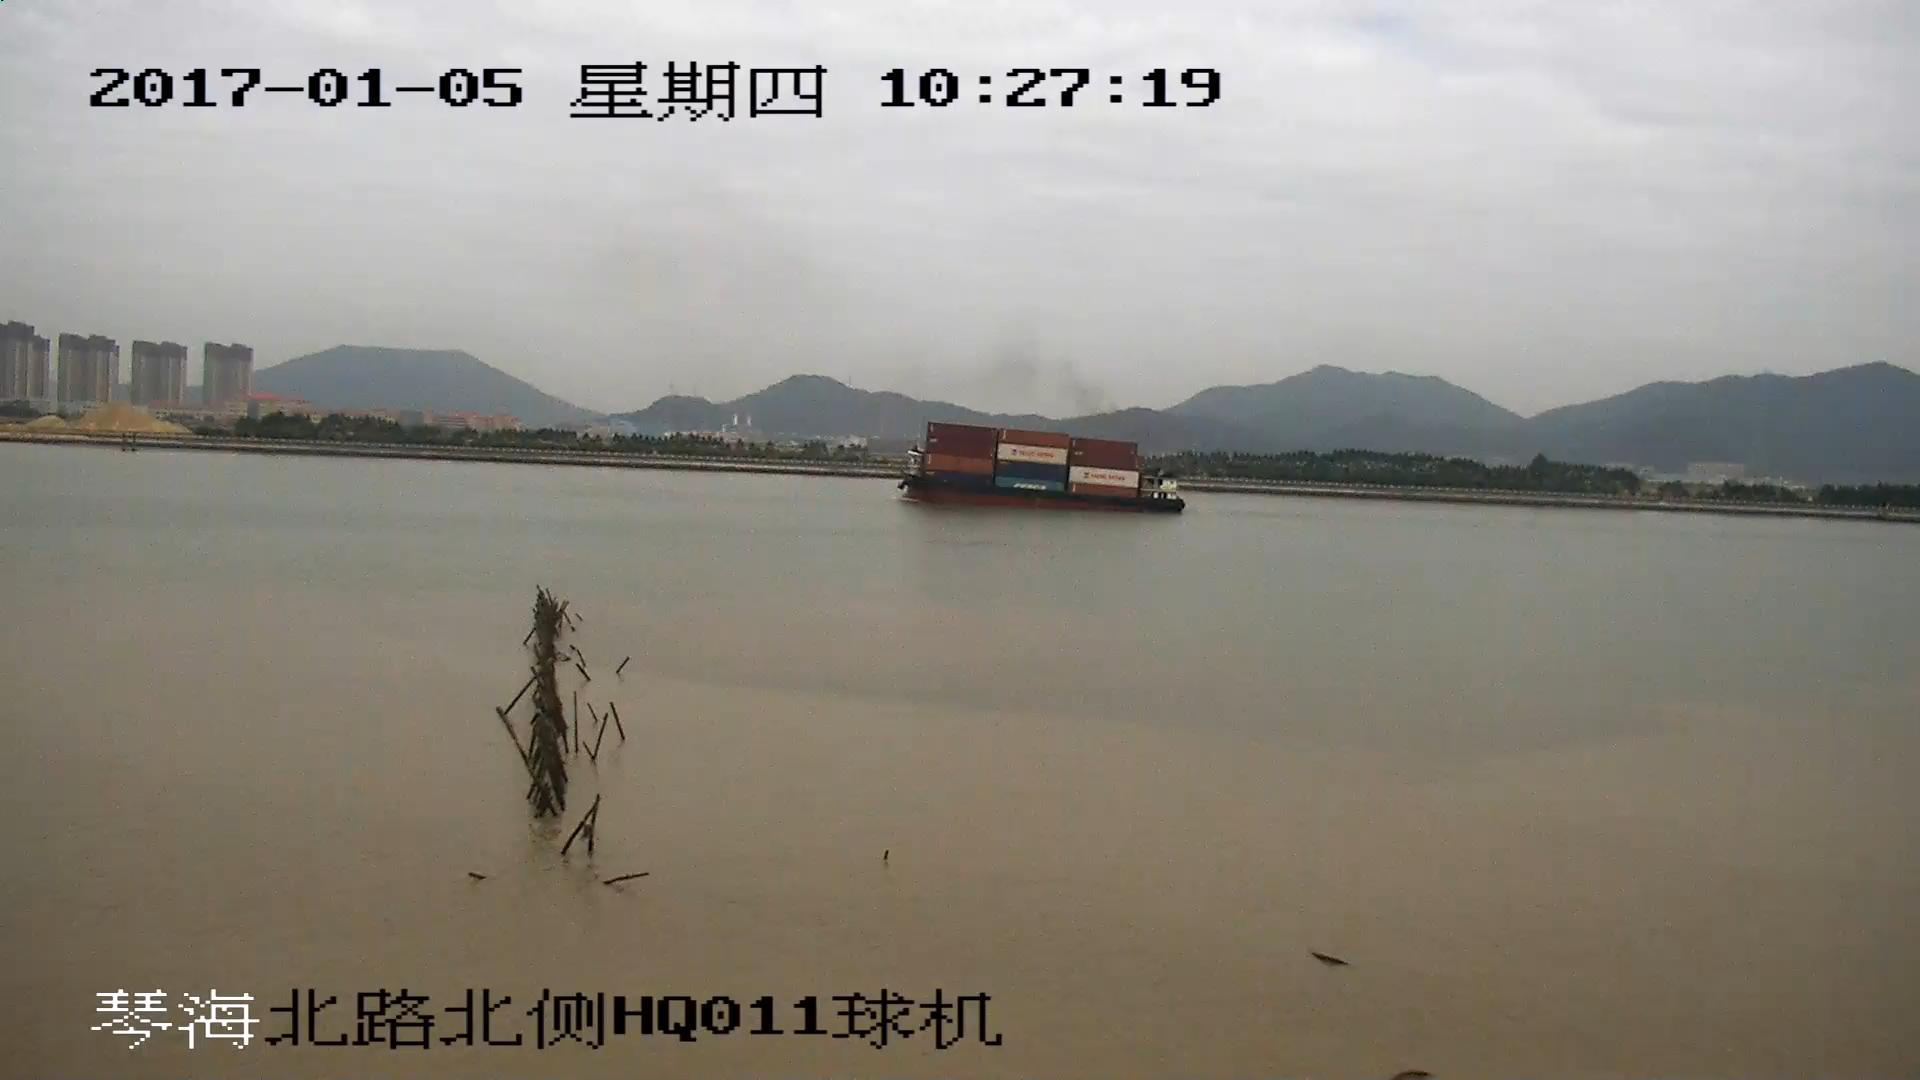Ship: (899, 427, 1188, 517)
